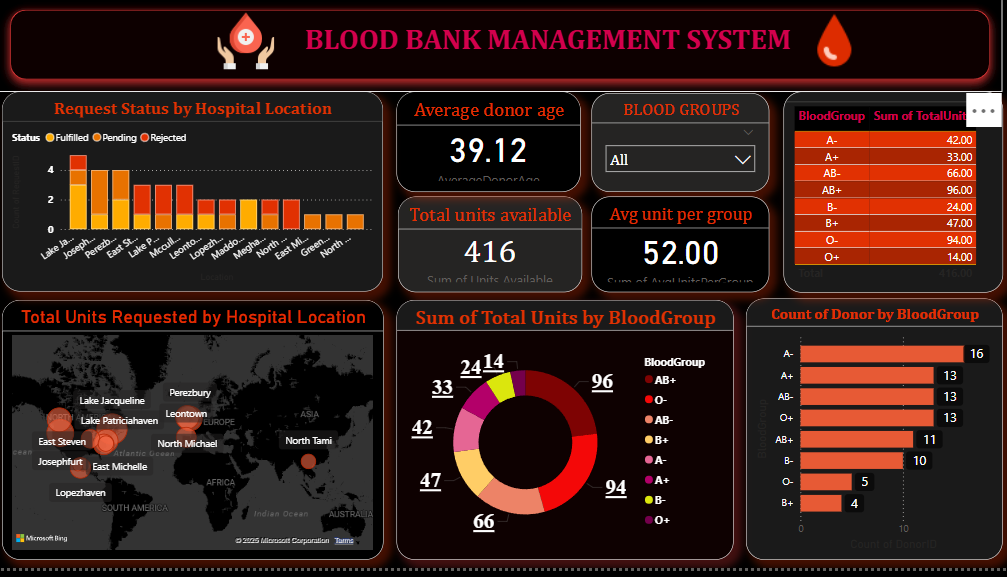

The dashboard page shown, as its layout file describes it:
{"tool":"powerbi","page":{"name":"Page 1","canvas":[1280,720],"ordinal":0},"visuals":[{"type":"card","title":"Total units available","fields":{"Values":["Sum(bloodbank bloodinventory.UnitsAvailable)"]},"box":[510.2,251.2,231.7,120.7],"z":0},{"type":"barChart","title":"Count of Donor by BloodGroup","fields":{"Y":["CountNonNull(bloodbank donors.DonorID)"],"Category":["bloodbank donors.BloodGroup"]},"box":[948.3,379.7,323.2,329.1],"z":1000},{"type":"card","title":"Average donor age ","fields":{"Values":["bloodbank bloodinventory.AverageDonorAge"]},"box":[508.2,118.8,231.7,126.6],"z":2000},{"type":"map","title":"Total Units Requested by Hospital Location","fields":{"Category":["bloodbank locationwiseunitsrequested.HospitalLocation"],"Size":["Sum(bloodbank locationwiseunitsrequested.TotalUnitsRequested)"]},"box":[12,382,480,328],"z":3000},{"type":"columnChart","title":"Request Status by Hospital Location ","fields":{"Category":["bloodbank hospitals.Location"],"Y":["CountNonNull(bloodbank bloodrequests.RequestID)"],"Series":["bloodbank bloodrequests.Status"]},"box":[12,120,480,252],"z":4000},{"type":"slicer","title":"BLOOD GROUPS","fields":{"Values":["bloodbank bloodinventory.BloodGroup"]},"box":[753.6,120.7,223.9,124.6],"z":5000},{"type":"card","title":"Avg unit per group","fields":{"Values":["Sum(bloodbank vw_avgunitspergroup.AvgUnitsPerGroup)"]},"box":[753.6,251.2,223.9,120.7],"z":7000},{"type":"donutChart","title":"Sum of Total Units by BloodGroup","fields":{"Category":["bloodbank bloodgroupsunits.BloodGroup"],"Y":["Sum(bloodbank bloodgroupsunits.TotalUnits)"]},"box":[492.7,379.7,440.1,329.1],"z":8000},{"type":"shape","box":[6,0,1266,120],"z":9000},{"type":"shape","box":[120,0,1160,106],"z":10000},{"type":"image","box":[1012.6,9.7,93.5,89.6],"z":11000},{"type":"image","box":[220,9.7,198.6,91.5],"z":12000},{"type":"columnChart","title":"peak month for donations","fields":{"Category":["bloodbank donationrecords.Date.Variation.Date Hierarchy.Month"],"Y":["Sum(bloodbank donationrecords.UnitsDonated)"]},"box":[991.2,118.8,288.2,241.5],"z":12001}]}

Visuals, with their boxes in screenshot pixels (x1, y1, x2, y2), scaled from the page's 1280x720 canvas onto the 1007x577 screenshot:
"Total units available" card: detection(401, 201, 584, 298)
"Count of Donor by BloodGroup" barChart: detection(746, 304, 1000, 568)
"Average donor age " card: detection(400, 95, 582, 197)
"Total Units Requested by Hospital Location" map: detection(9, 306, 387, 569)
"Request Status by Hospital Location " columnChart: detection(9, 96, 387, 298)
"BLOOD GROUPS" slicer: detection(593, 97, 769, 197)
"Avg unit per group" card: detection(593, 201, 769, 298)
"Sum of Total Units by BloodGroup" donutChart: detection(388, 304, 734, 568)
shape: detection(5, 0, 1001, 96)
shape: detection(94, 0, 1006, 85)
image: detection(797, 8, 870, 80)
image: detection(173, 8, 329, 81)
"peak month for donations" columnChart: detection(780, 95, 1006, 289)
